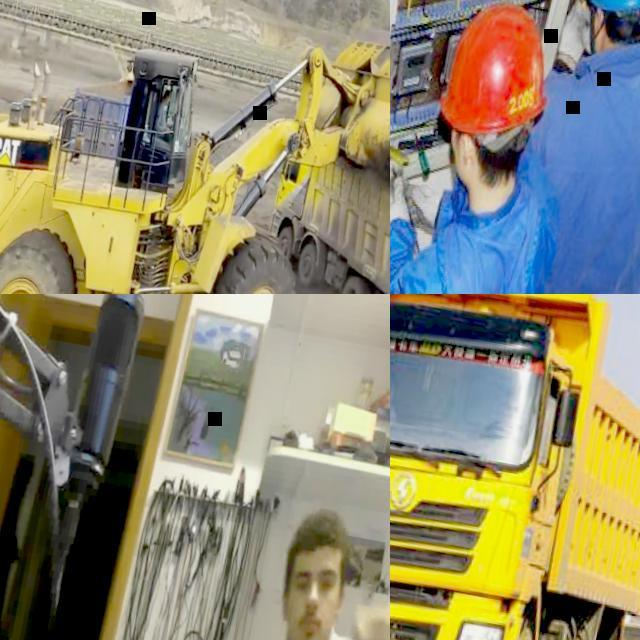Helmet: (438, 3, 554, 149), (591, 0, 639, 24)
Robbery: (390, 4, 555, 296), (545, 0, 640, 293), (244, 504, 380, 640)
